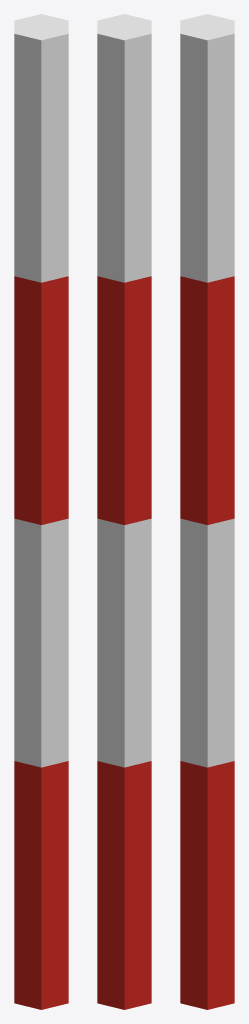
File: baliza_ski.obj
3 renders of one model, left to right at view 1: azimuth 30°, elevation 25°; view 2: azimuth 150°, elevation 25°; view 3: azimuth 330°, elevation 25°, orthographic.
Visible parts, largest first — view 1: baliza_ski; view 2: baliza_ski; view 3: baliza_ski.
Part boxes in pixels (x1=…): baliza_ski: x1=14, y1=14, x2=68, y2=1009; baliza_ski: x1=97, y1=14, x2=151, y2=1009; baliza_ski: x1=180, y1=14, x2=234, y2=1009.
Size of the model in its own units: 0.14 by 2.4 by 0.1212.
